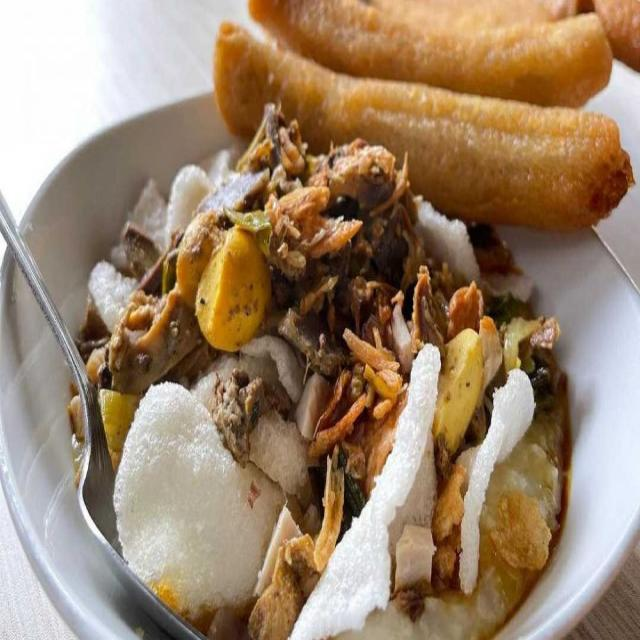bubur ayam: (80, 109, 568, 639)
mangkuk: (0, 87, 623, 631)
